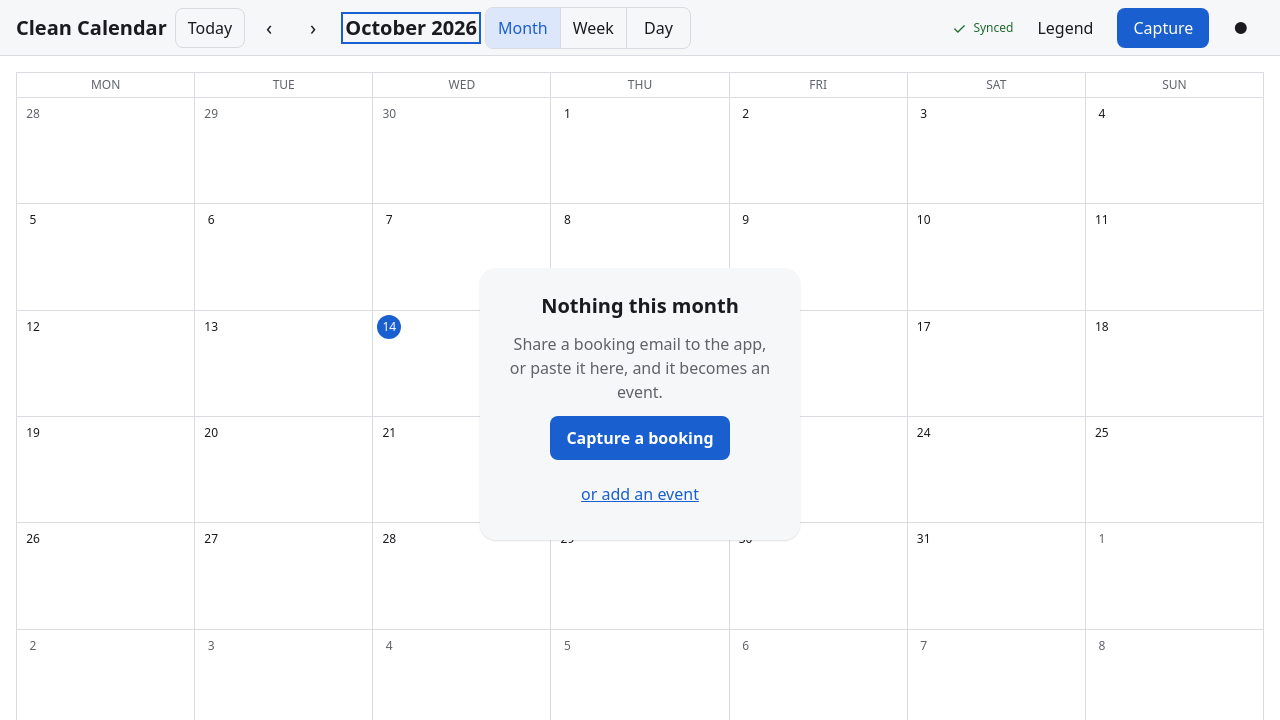
Test: app shell top bar (AC-3) › opens the Account menu with Kinds, Notifications and Sign out items
Expected: the heading "October 2026" is shown, [345,16,477,40]
Click the button named "Account" at x=1241, y=28, box [1217,8,1264,48]
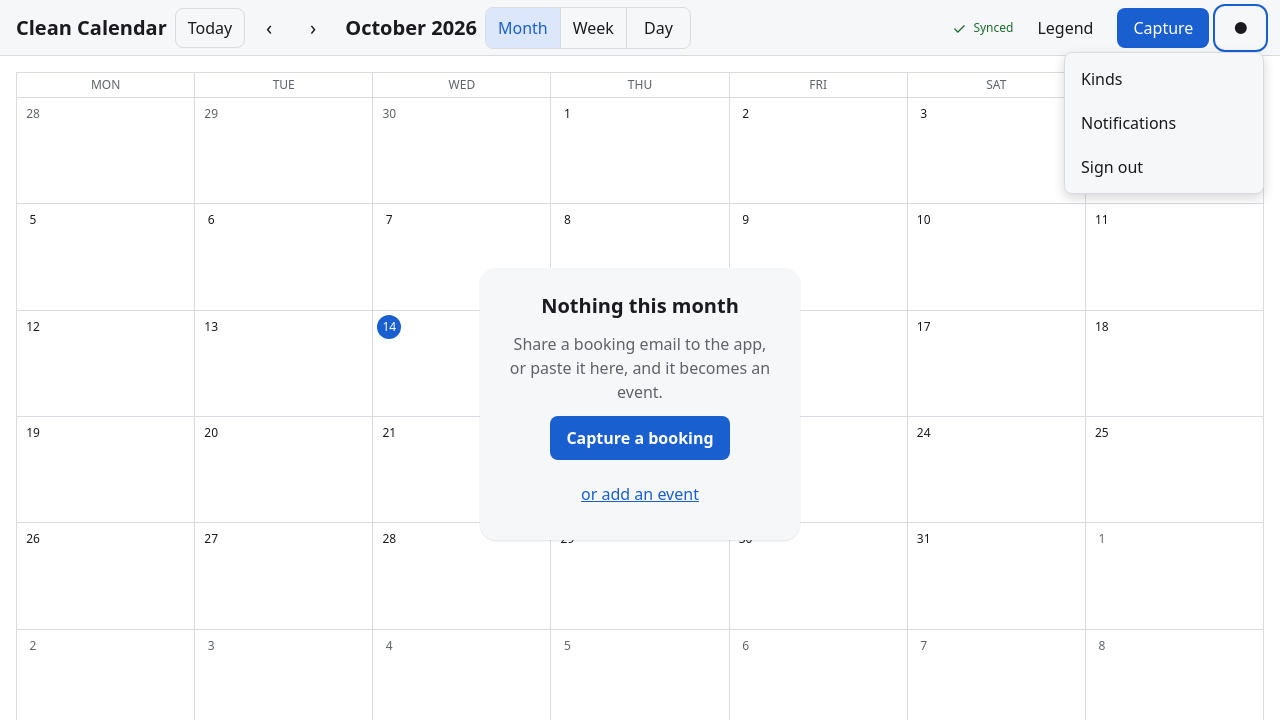
Expected: the menu items read "Kinds", "Notifications", "Sign out", in this order, [1081,68,1122,90]; [1081,112,1176,134]; [1065,144,1263,188]
